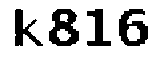1: (83, 5, 114, 48)
6: (116, 7, 151, 50)
8: (47, 10, 81, 48)
k: (10, 3, 42, 48)
